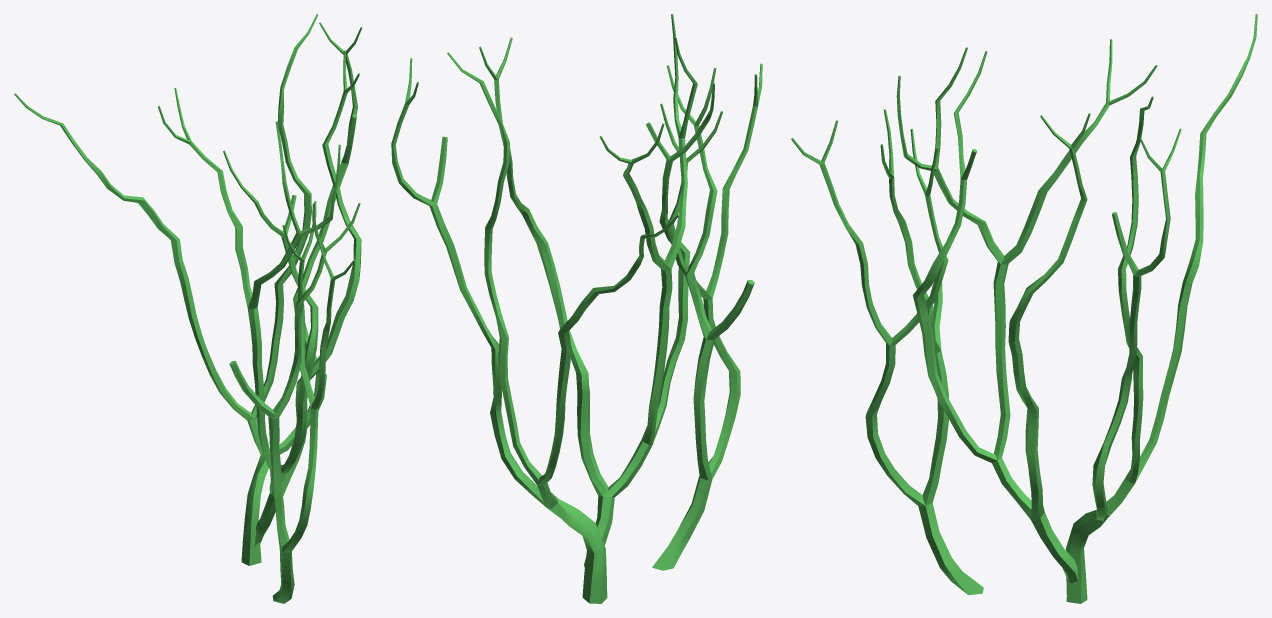
Rendered from jungle_wiggle_tree_B.fbx.
3 renders of one model, left to right at view 1: azimuth 30°, elevation 25°; view 2: azimuth 150°, elevation 25°; view 3: azimuth 270°, elevation 25°, orthographic. The views are drawn at different scales.
Parts seen in each view (by area): view 1: jungle_wiggle_tree_B_B, jungle_wiggle_tree_B_A, jungle_wiggle_tree_B_C; view 2: jungle_wiggle_tree_B_B, jungle_wiggle_tree_B_A, jungle_wiggle_tree_B_C; view 3: jungle_wiggle_tree_B_B, jungle_wiggle_tree_B_A, jungle_wiggle_tree_B_C.
Boxes of the visible parts, x1,y1,x2,y2 form: jungle_wiggle_tree_B_B: (158,50,361,546); jungle_wiggle_tree_B_A: (14,14,362,565); jungle_wiggle_tree_B_C: (229,201,360,603); jungle_wiggle_tree_B_B: (479,14,714,567); jungle_wiggle_tree_B_A: (391,52,679,603); jungle_wiggle_tree_B_C: (652,63,762,570); jungle_wiggle_tree_B_B: (896,39,1157,582); jungle_wiggle_tree_B_A: (1066,14,1257,603); jungle_wiggle_tree_B_C: (791,109,983,595).
Size of the model in its own units: 533 by 840 by 636.
